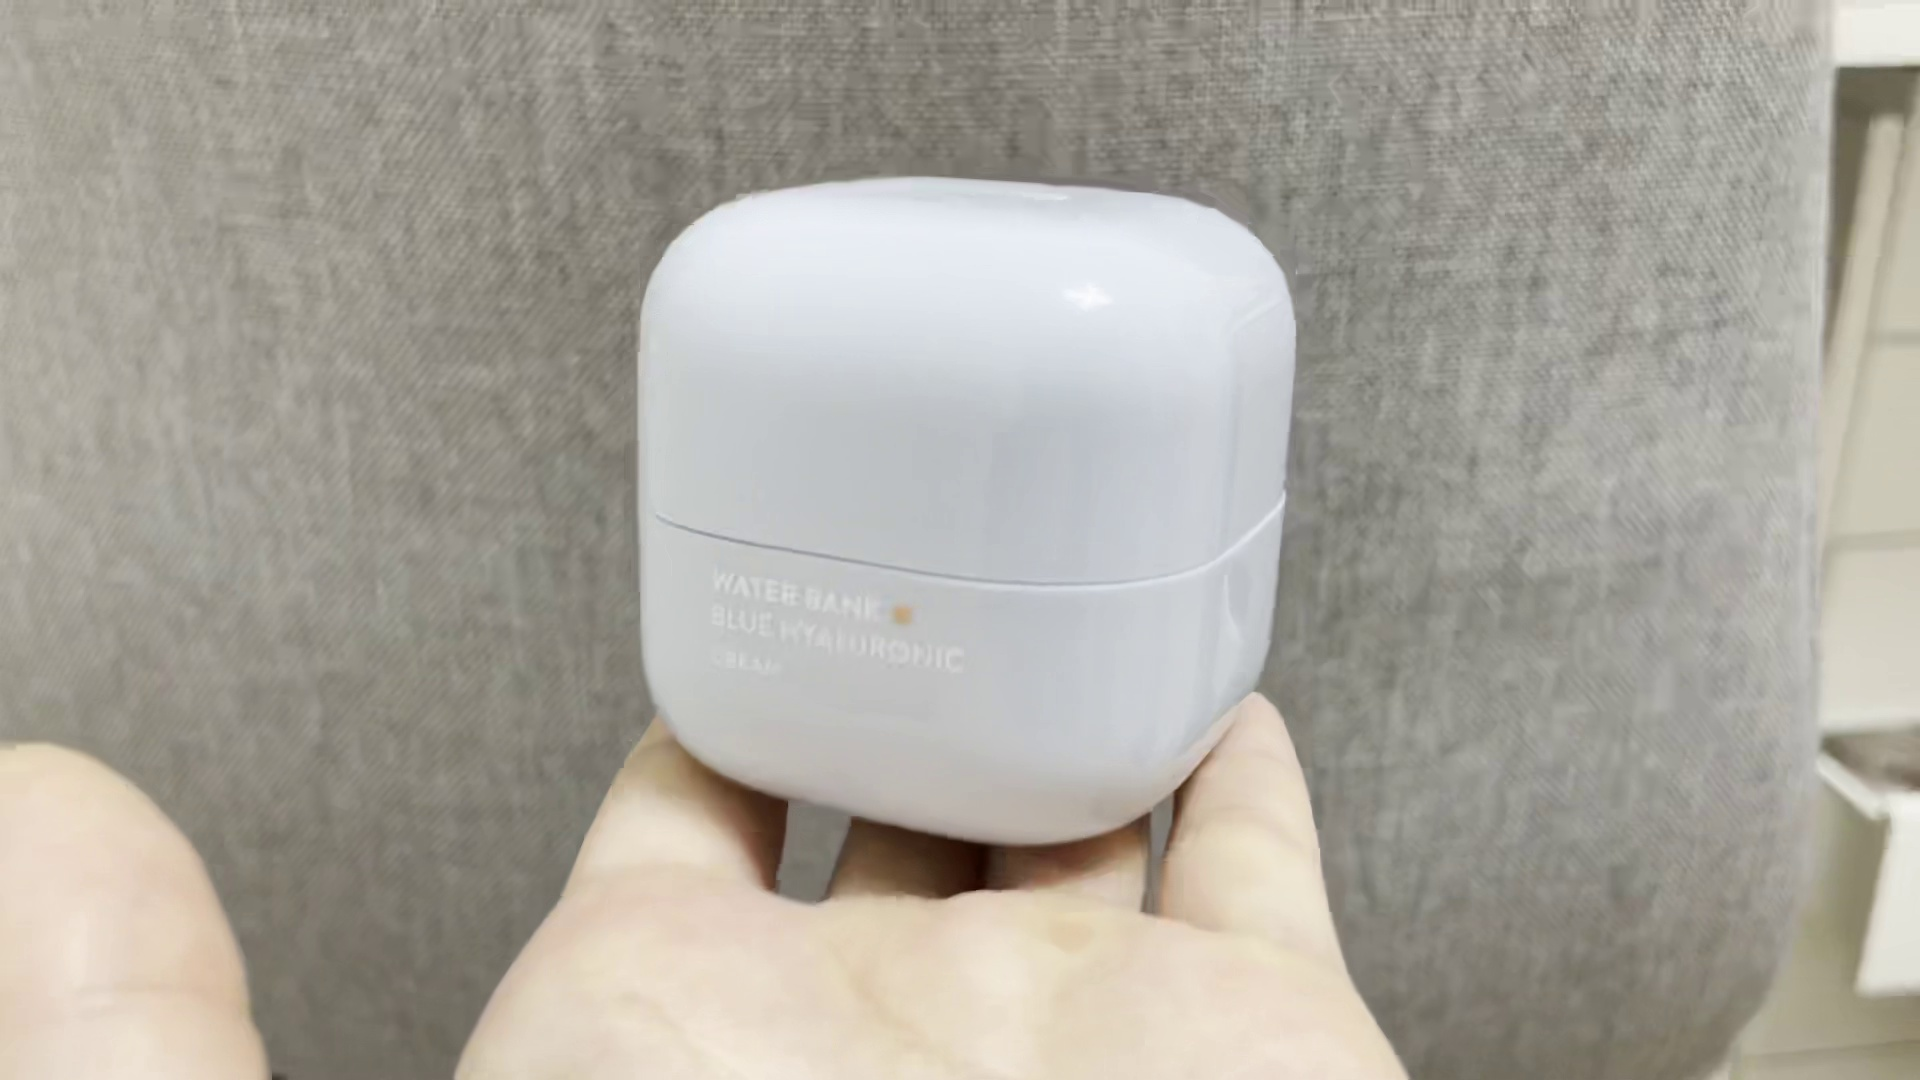cream: (632, 175, 1296, 837)
